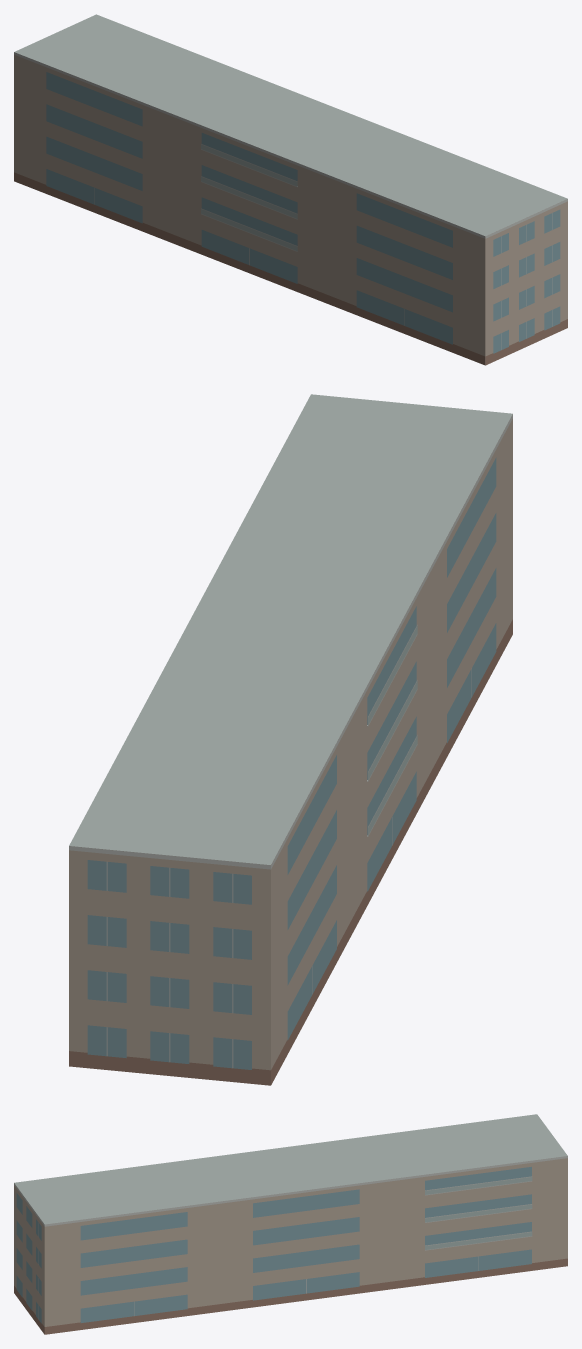
File: residential-720a13bb-9375-4d28-9ffa-c853e2745969.glb
The picture shows the model from 3 angles, top to bottom: view 1: azimuth 30°, elevation 25°; view 2: azimuth 150°, elevation 25°; view 3: azimuth 270°, elevation 25°; orthographic projection. The views are drawn at different scales.
Visible parts, largest first — view 1: residential-720a13bb-9375-4d28-9ffa-c853e2745969.tmp; view 2: residential-720a13bb-9375-4d28-9ffa-c853e2745969.tmp; view 3: residential-720a13bb-9375-4d28-9ffa-c853e2745969.tmp.
Boxes of the visible parts, x1,y1,x2,y2 form: residential-720a13bb-9375-4d28-9ffa-c853e2745969.tmp: (14,14,567,365); residential-720a13bb-9375-4d28-9ffa-c853e2745969.tmp: (69,394,512,1085); residential-720a13bb-9375-4d28-9ffa-c853e2745969.tmp: (14,1114,567,1334).
Size of the model in its own units: 26.21 by 12.2 by 55.56.
